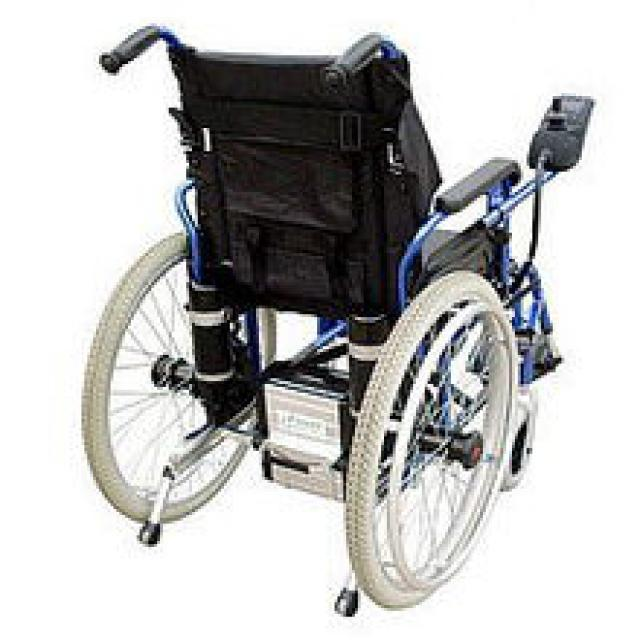wheelchairs: (80, 18, 565, 602)
